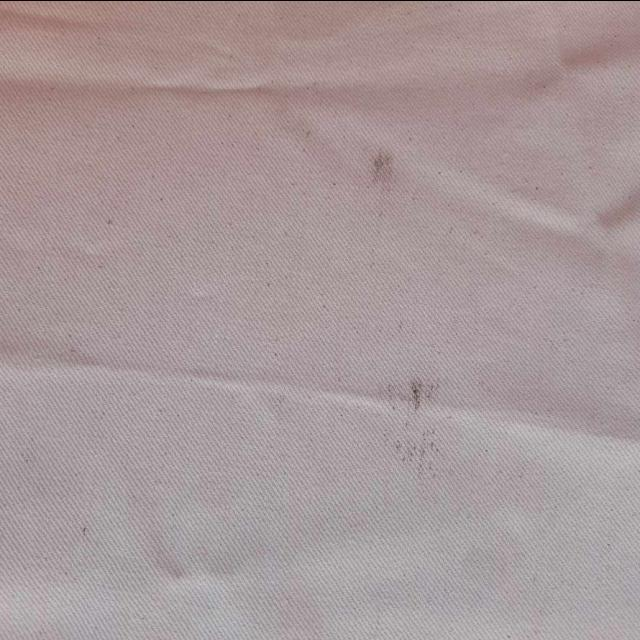taaaches: (381, 366, 462, 481), (348, 134, 406, 194)
